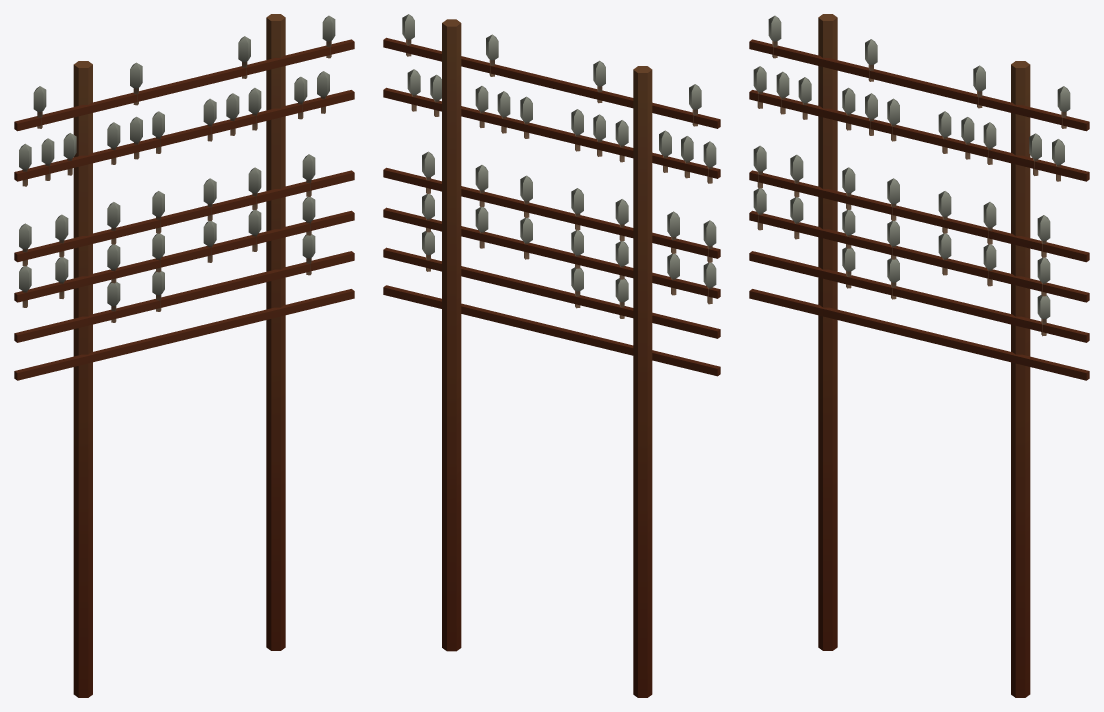
The model's file is SM_Electric_Pole_Large_01.fbx.
3 renders of one model, left to right at view 1: azimuth 30°, elevation 25°; view 2: azimuth 150°, elevation 25°; view 3: azimuth 330°, elevation 25°, orthographic.
Visible parts, largest first — view 1: SM_Electric_Pole_Large_01; view 2: SM_Electric_Pole_Large_01; view 3: SM_Electric_Pole_Large_01.
Part boxes in pixels (box(x1,y1,x2,y2)): SM_Electric_Pole_Large_01: box(14, 14, 354, 697); SM_Electric_Pole_Large_01: box(383, 14, 720, 697); SM_Electric_Pole_Large_01: box(749, 14, 1089, 697).
Bounding box in the file's own units: 3.92 × 7 × 0.2688.
